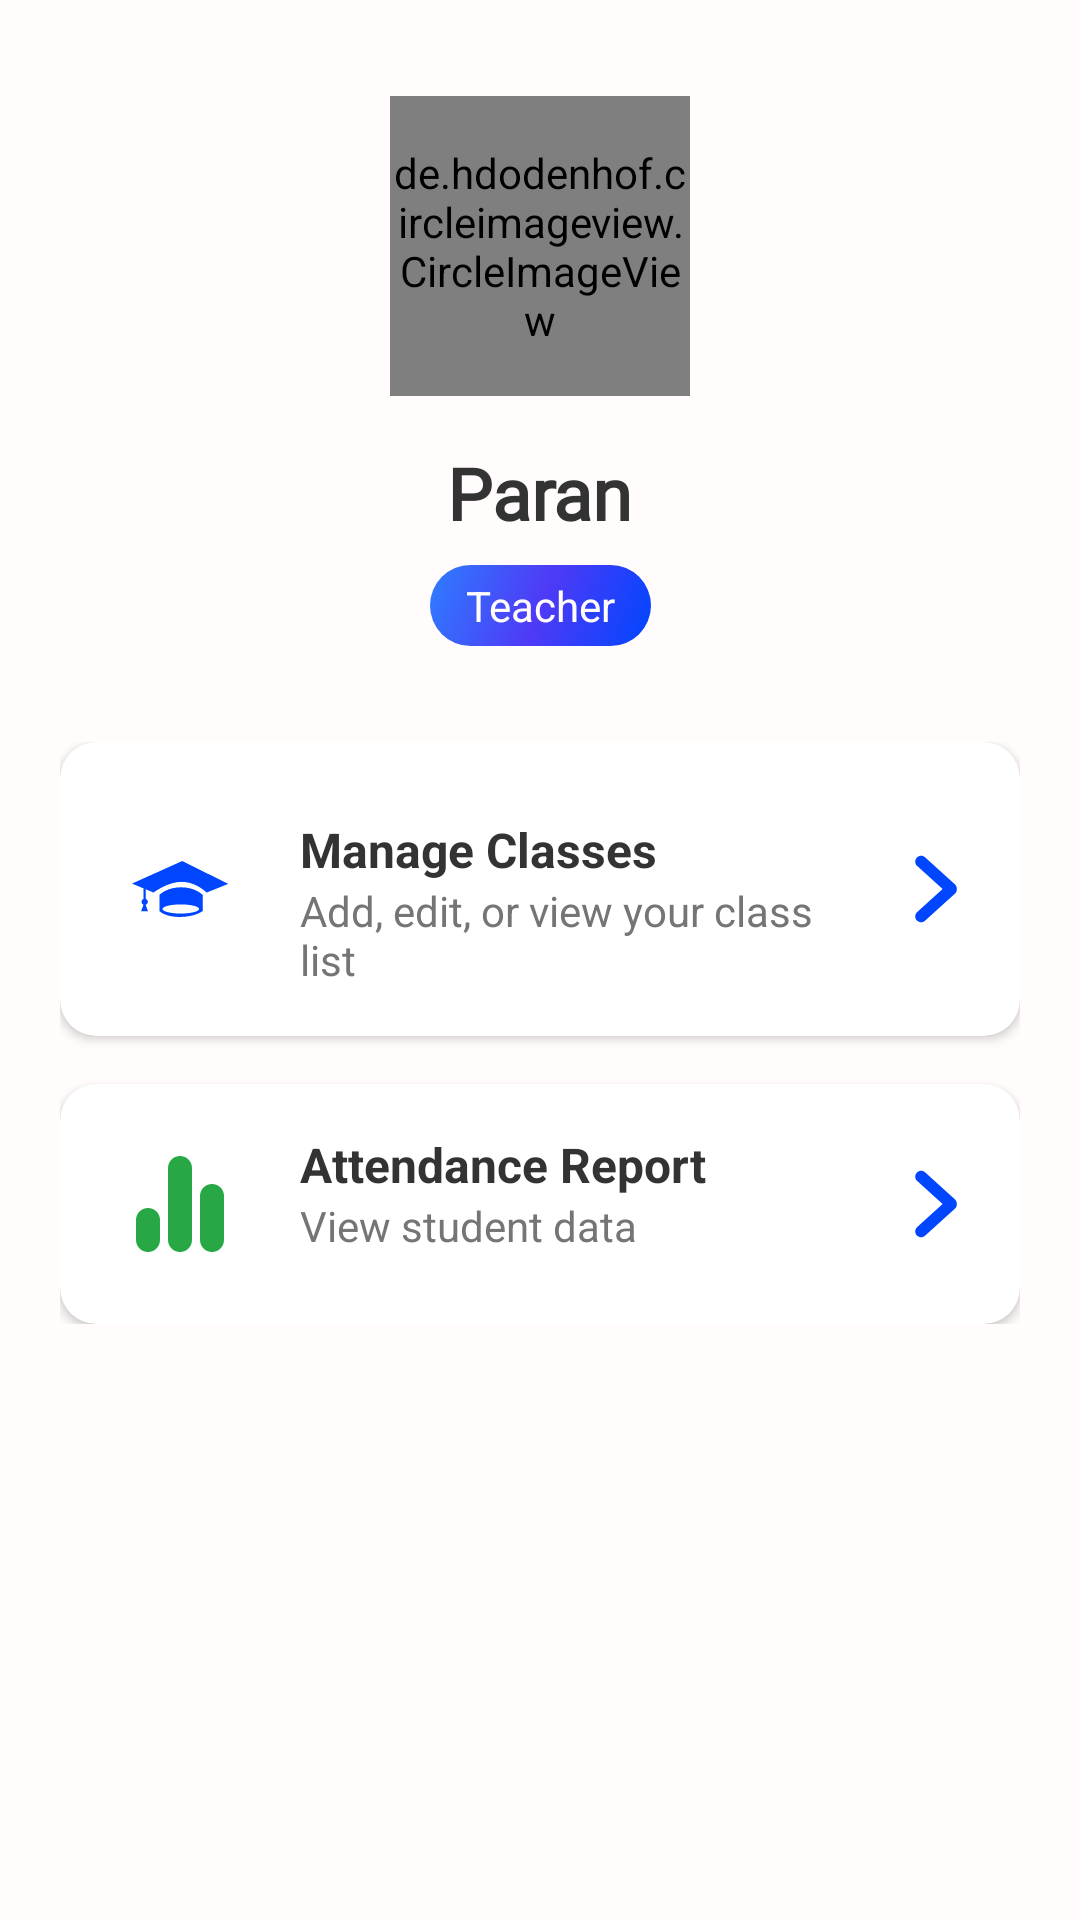

Screen size 1080×1920. Icon name, then its center in pixels as (x=x, y=y):
chevron right: (x=936, y=889), (x=936, y=1204)
